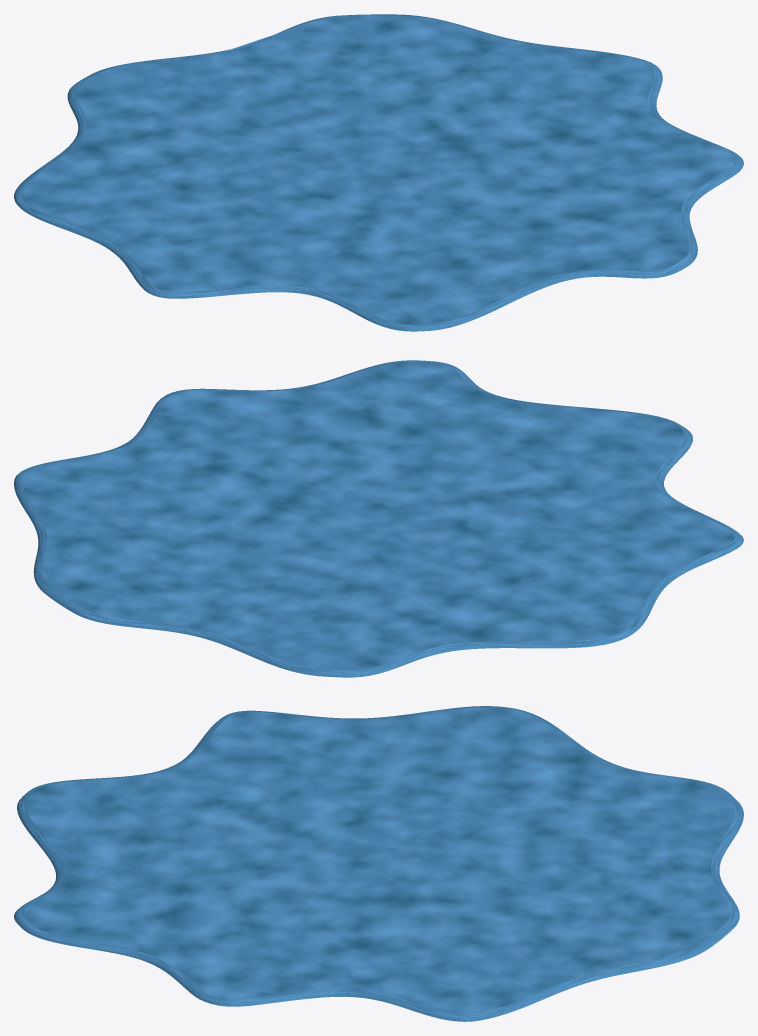
The model's file is Trail.fbx.
3 views of the same model, one above another, from view 1: azimuth 30°, elevation 25°; view 2: azimuth 150°, elevation 25°; view 3: azimuth 270°, elevation 25° (orthographic). The views are drawn at different scales.
Visible parts, largest first — view 1: Trail; view 2: Trail; view 3: Trail.
Part boxes in pixels (x1,y1,x2,y2): Trail: (14,14,743,331); Trail: (14,360,743,677); Trail: (14,706,743,1021).
Bounding box in the file's own units: 192 × 1 × 188.
